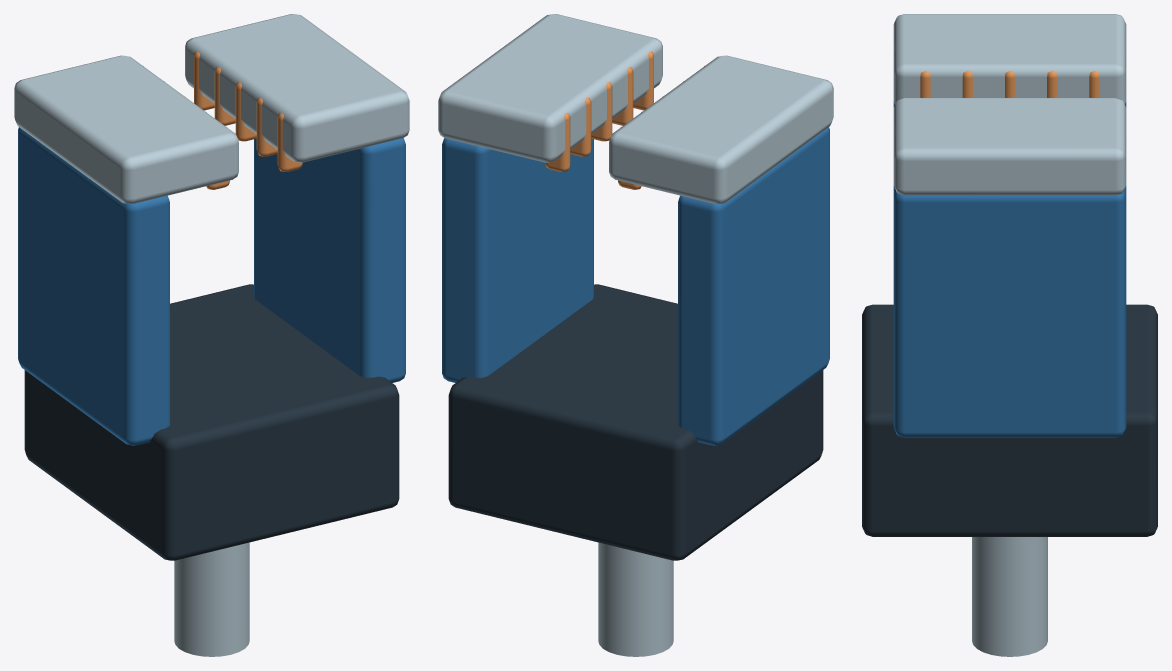
Rendered from robot-gripper.glb.
3 views of the same model, side by side, from view 1: azimuth 30°, elevation 25°; view 2: azimuth 150°, elevation 25°; view 3: azimuth 270°, elevation 25° (orthographic).
Parts seen in each view (by area): view 1: robot-gripper; view 2: robot-gripper; view 3: robot-gripper.
Boxes of the visible parts, <box> form: robot-gripper: <box>14,14,409,656</box>; robot-gripper: <box>438,14,833,656</box>; robot-gripper: <box>862,14,1157,656</box>.
Bounding box in the file's own units: 1.59 × 2.92 × 1.4.
